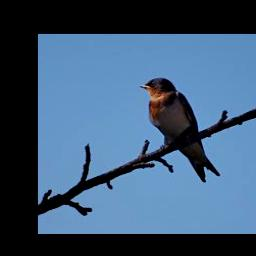Swallow: (140, 77, 220, 182)
